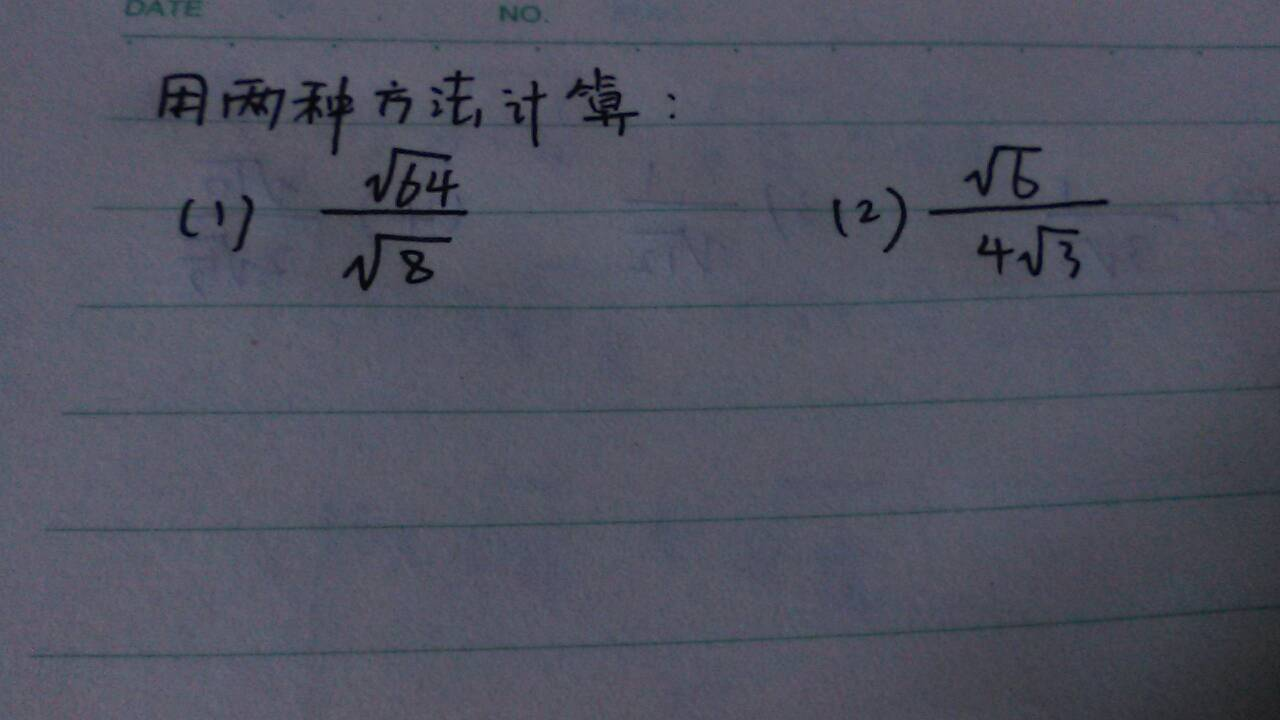division: (314, 196, 467, 227), (925, 201, 1135, 221)
sqrt: (338, 224, 475, 300), (355, 133, 462, 218), (968, 136, 1047, 207), (1021, 221, 1096, 286)
